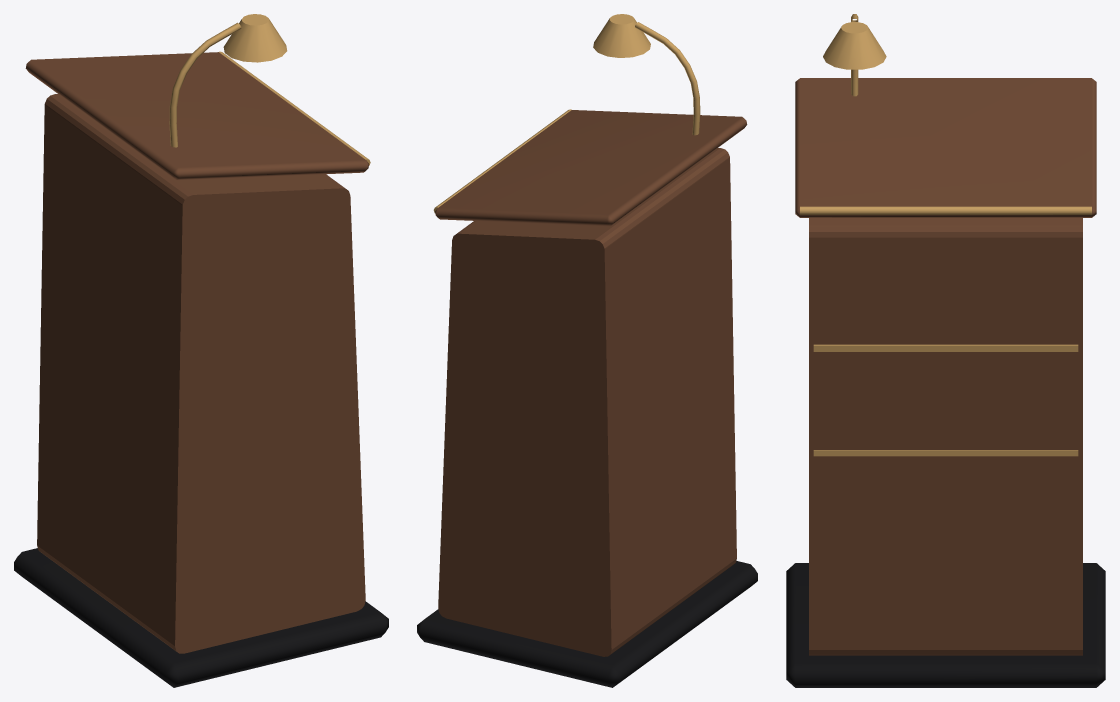
The model's file is usher_podium.glb.
3 renders of one model, left to right at view 1: azimuth 30°, elevation 25°; view 2: azimuth 150°, elevation 25°; view 3: azimuth 270°, elevation 25°, orthographic. The views are drawn at different scales.
Parts seen in each view (by area): view 1: Mesh_Body, Mesh_Top, Mesh_Plinth, Mesh_Shade, Mesh_LampStem; view 2: Mesh_Body, Mesh_Top, Mesh_Plinth, Mesh_Shade, Mesh_LampStem; view 3: Mesh_Body, Mesh_Top, Mesh_Plinth, Mesh_TopEdge, Mesh_Shade, Mesh_Band2, Mesh_Band1.
Boxes of the visible parts, bbox=[...] form: Mesh_Body: bbox=[37, 94, 365, 653]; Mesh_Top: bbox=[25, 52, 368, 180]; Mesh_Plinth: bbox=[14, 548, 388, 687]; Mesh_Shade: bbox=[223, 14, 287, 62]; Mesh_LampStem: bbox=[169, 22, 241, 147]; Mesh_Body: bbox=[438, 148, 736, 656]; Mesh_Top: bbox=[435, 110, 747, 226]; Mesh_Plinth: bbox=[417, 561, 757, 687]; Mesh_Shade: bbox=[593, 14, 650, 57]; Mesh_LampStem: bbox=[635, 22, 700, 135]; Mesh_Body: bbox=[809, 218, 1082, 655]; Mesh_Top: bbox=[795, 78, 1096, 217]; Mesh_Plinth: bbox=[786, 563, 1105, 687]; Mesh_TopEdge: bbox=[800, 206, 1091, 214]; Mesh_Shade: bbox=[823, 22, 886, 69]; Mesh_Band2: bbox=[813, 344, 1078, 351]; Mesh_Band1: bbox=[813, 450, 1078, 456].
Size of the model in its own units: 0.56 by 1.49 by 0.7.
